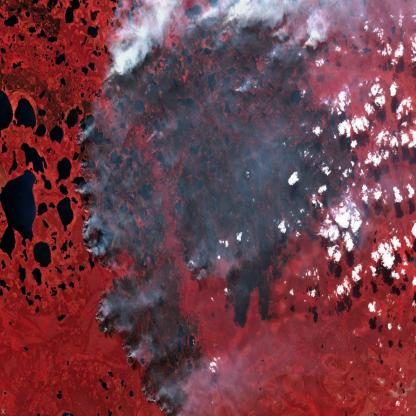fire: (91, 279, 198, 415), (92, 0, 235, 93), (62, 100, 121, 270), (246, 0, 316, 91)
